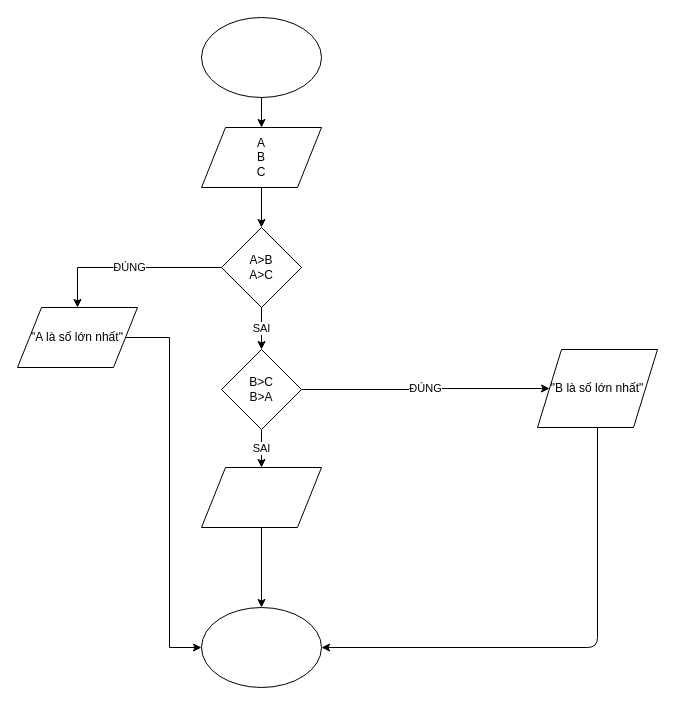
Some shapes in this 675 by 705 pixel diagram are drawn without their labels. Here are the shapes that lost their labels. From the top down, the centre of each, then its label:
point (261, 57): Begin
point (261, 497): "C là số lớn nhất"
point (261, 647): END
